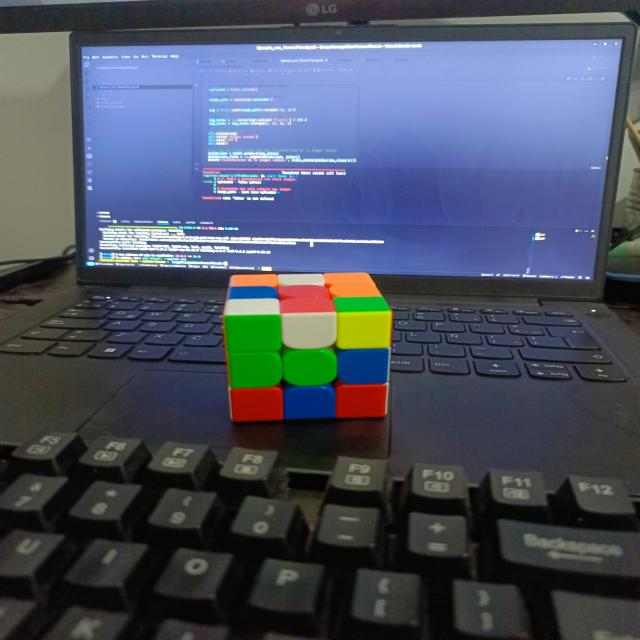rubik: (220, 271, 393, 422)
